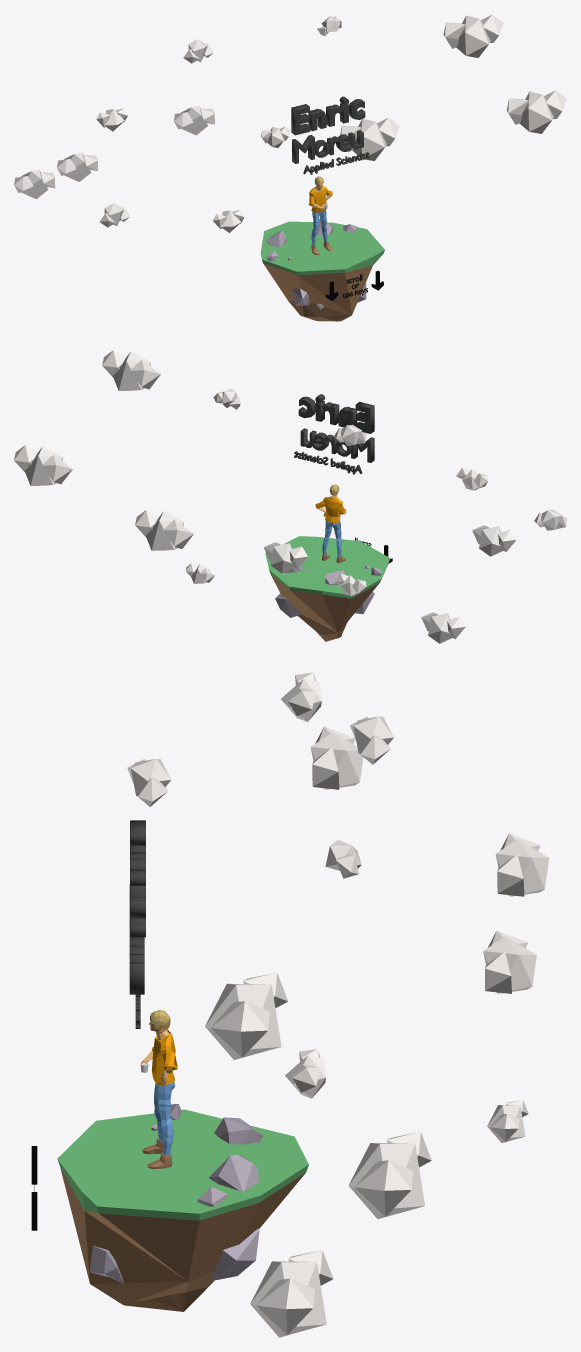
Rendered from title.glb.
3 views of the same model, one above another, from view 1: azimuth 30°, elevation 25°; view 2: azimuth 150°, elevation 25°; view 3: azimuth 270°, elevation 25° (orthographic). The views are drawn at different scales.
Visible parts, largest first — view 1: Cylinder, Sphere.007, Sphere.010, Text.001, Sphere.004, Text.003, Cylinder.002, Sphere.005, Sphere.008, Sphere.011, Sphere.006, Sphere.001 (+4 smaller); view 2: Cylinder, Text.001, Sphere.010, Sphere.007, Sphere.004, Cylinder.002, Text.003, Sphere.005, Sphere.011, Sphere.008, Sphere.009, Sphere.002 (+5 smaller); view 3: Cylinder, Sphere.010, Sphere.004, Sphere.007, Cylinder.002, Sphere.008, Sphere.005, Sphere.011, Text.001, Sphere.002, Sphere.009, Sphere.001 (+7 smaller).
Part boxes in pixels (bbox=[...]): Cylinder: bbox=[260, 221, 384, 321]; Sphere.007: bbox=[443, 14, 503, 57]; Sphere.010: bbox=[506, 90, 566, 133]; Text.001: bbox=[291, 96, 365, 135]; Sphere.004: bbox=[340, 117, 399, 160]; Text.003: bbox=[292, 130, 363, 163]; Cylinder.002: bbox=[308, 176, 332, 254]; Sphere.005: bbox=[174, 105, 214, 135]; Sphere.008: bbox=[14, 169, 55, 199]; Sphere.011: bbox=[57, 152, 97, 181]; Sphere.006: bbox=[213, 209, 244, 232]; Sphere.001: bbox=[96, 108, 127, 131]; Cylinder: bbox=[265, 536, 390, 641]; Text.001: bbox=[298, 394, 374, 433]; Sphere.010: bbox=[14, 445, 72, 485]; Sphere.007: bbox=[102, 350, 160, 390]; Sphere.004: bbox=[135, 510, 193, 550]; Cylinder.002: bbox=[315, 484, 346, 562]; Text.003: bbox=[300, 428, 374, 462]; Sphere.005: bbox=[263, 542, 307, 573]; Sphere.011: bbox=[472, 525, 516, 556]; Sphere.008: bbox=[421, 612, 465, 643]; Sphere.009: bbox=[534, 509, 566, 530]; Sphere.002: bbox=[334, 424, 366, 445]; Cylinder: bbox=[57, 1109, 308, 1311]; Sphere.010: bbox=[250, 1250, 333, 1337]; Sphere.004: bbox=[348, 1131, 431, 1219]; Sphere.007: bbox=[205, 972, 288, 1059]; Cylinder.002: bbox=[140, 1010, 177, 1168]; Sphere.008: bbox=[495, 833, 549, 896]; Sphere.005: bbox=[483, 930, 536, 993]; Sphere.011: bbox=[310, 726, 363, 789]; Text.001: bbox=[130, 820, 145, 937]; Sphere.002: bbox=[350, 716, 393, 764]; Sphere.009: bbox=[127, 759, 171, 806]; Sphere.001: bbox=[281, 672, 321, 721].
Bounding box in the file's own units: 19.29 × 9.68 × 8.61.
